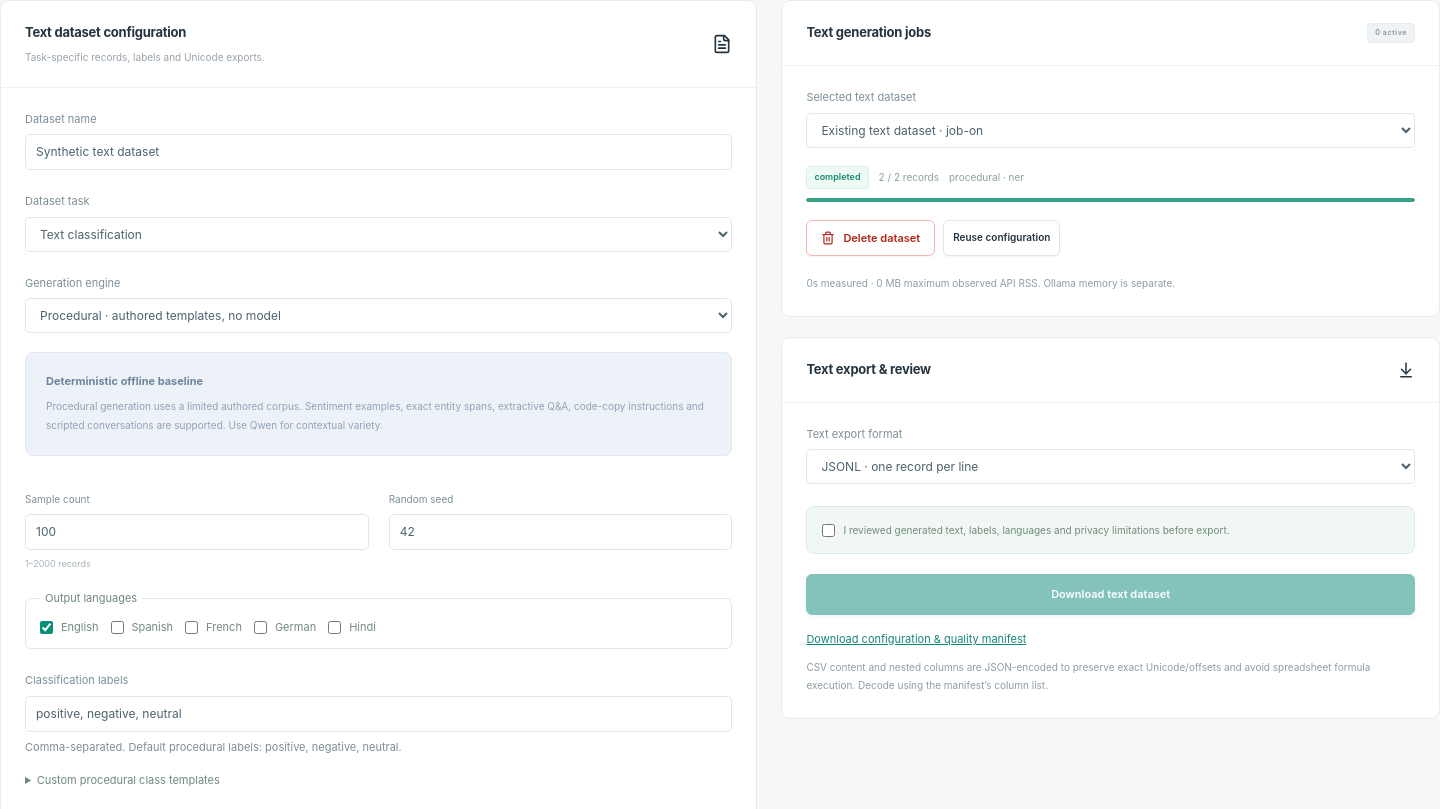
Text dataset studio › requires review before exporting and offers CSV, JSON and JSONL
This screenshot has width=1440, height=809.
Expected: the dropdown labelled "Text export format" is shown, [806, 449, 1415, 484]
Expected: the button "Download text dataset" is disabled, [806, 574, 1415, 615]
Click the checkbox labelled "I reviewed generated text".
click(829, 531)  # box [822, 524, 835, 537]
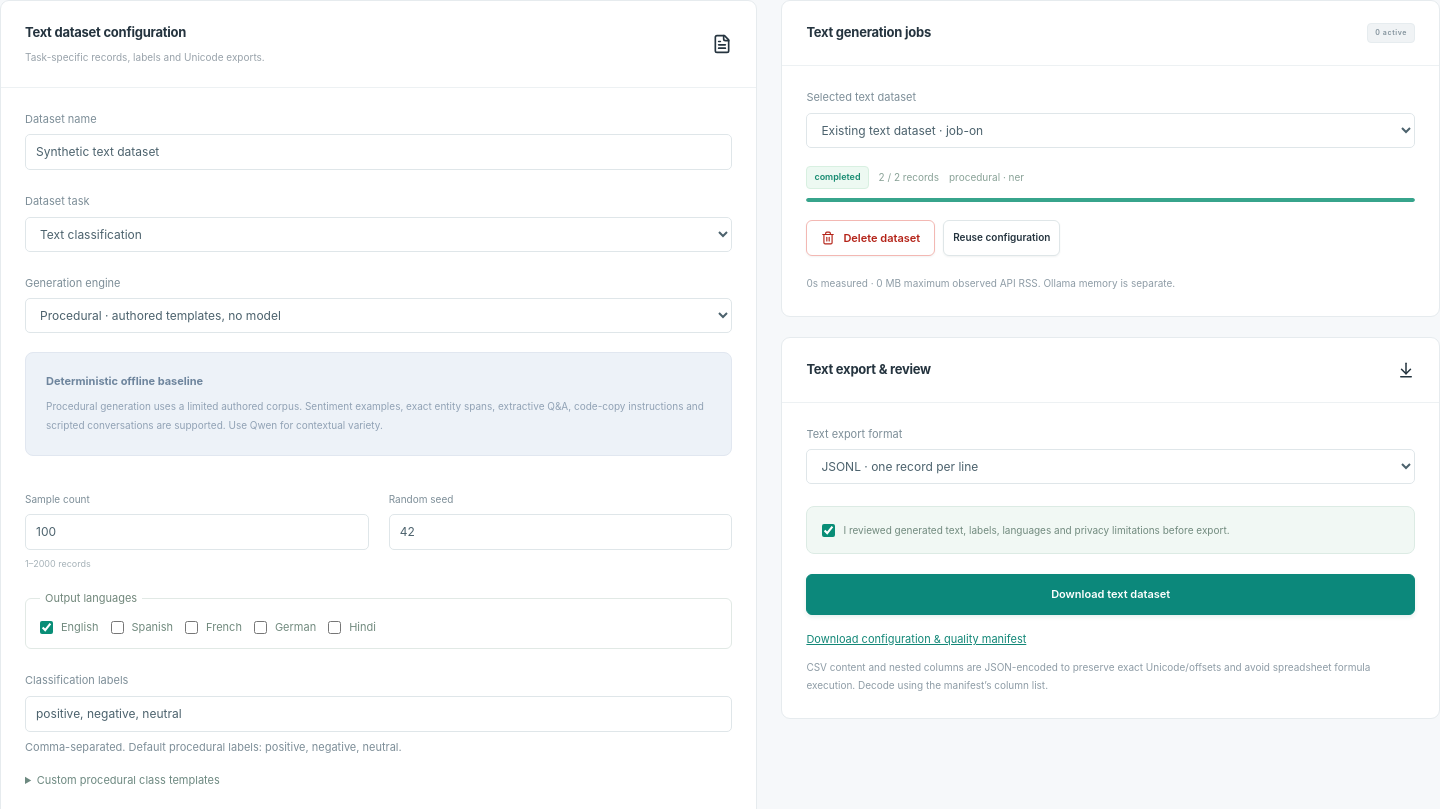
Result: the button "Download text dataset" is enabled at [806, 574, 1415, 615]
